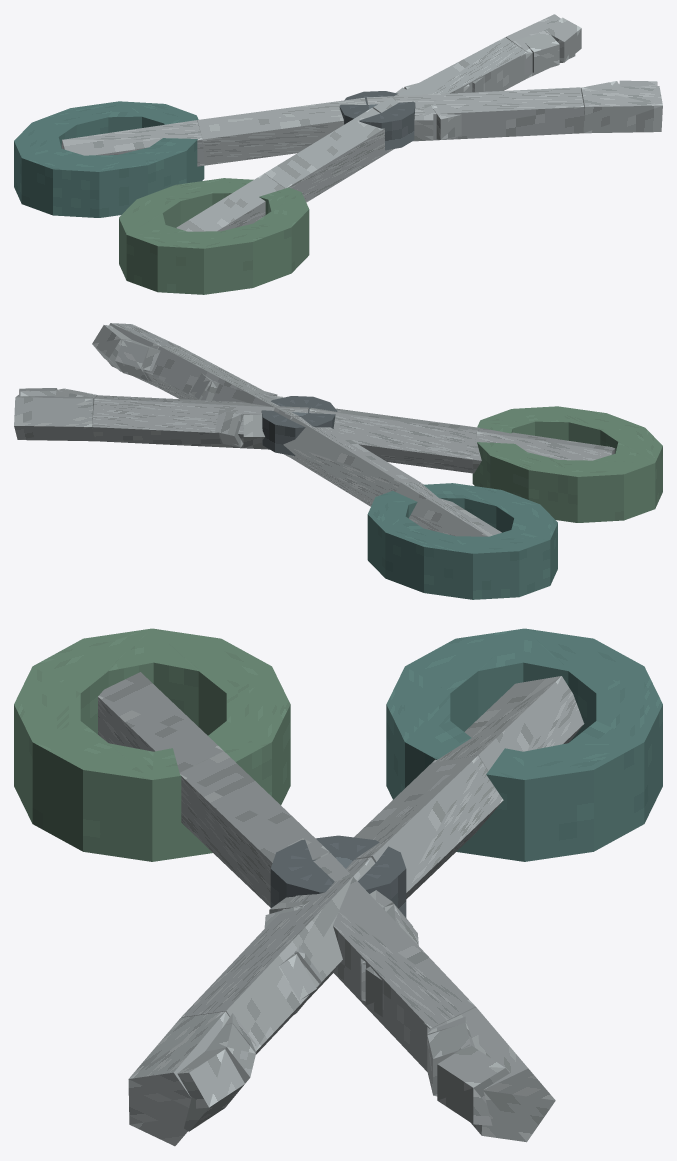
File: scissors_wavy.glb
The picture shows the model from 3 angles, top to bottom: view 1: azimuth 30°, elevation 25°; view 2: azimuth 150°, elevation 25°; view 3: azimuth 270°, elevation 25°; orthographic projection. The views are drawn at different scales.
Parts seen in each view (by area): view 1: block_finger loop (×2), block_long lever arm 1 (×2), block_long lever arm 2 (×2), block_long lever arm 0 (×2), block_long lever arm 3 (×2), block_pivot pin, block_wavy craft edge 6, block_wavy craft edge 7, block_wavy craft edge 1, block_wavy craft edge 0; view 2: block_finger loop (×2), block_long lever arm 1 (×2), block_long lever arm 2 (×2), block_long lever arm 0 (×2), block_long lever arm 3 (×2), block_pivot pin, block_wavy craft edge 6, block_wavy craft edge 7, block_wavy craft edge 1, block_wavy craft edge 0; view 3: block_finger loop (×2), block_long lever arm 2 (×2), block_long lever arm 1 (×2), block_long lever arm 0 (×2), block_long lever arm 3 (×2), block_wavy craft edge 7 (×2), block_pivot pin, block_wavy craft edge 6 (×2), block_wavy craft edge 3.
Boxes of the visible parts, x1,y1,x2,y2 form: block_finger loop (×2): [14, 101, 309, 294]; block_long lever arm 1 (×2): [197, 97, 393, 202]; block_long lever arm 2 (×2): [366, 37, 584, 141]; block_long lever arm 0 (×2): [61, 120, 284, 231]; block_long lever arm 3 (×2): [506, 14, 662, 133]; block_pivot pin: [339, 91, 415, 150]; block_wavy craft edge 6: [522, 31, 559, 72]; block_wavy craft edge 7: [545, 17, 581, 62]; block_wavy craft edge 1: [430, 104, 461, 139]; block_wavy craft edge 0: [414, 104, 433, 140]; block_finger loop (×2): [367, 406, 662, 599]; block_long lever arm 1 (×2): [283, 407, 480, 506]; block_long lever arm 2 (×2): [92, 346, 309, 457]; block_long lever arm 0 (×2): [396, 428, 615, 536]; block_long lever arm 3 (×2): [14, 323, 180, 441]; block_pivot pin: [261, 396, 337, 455]; block_wavy craft edge 6: [115, 339, 150, 380]; block_wavy craft edge 7: [92, 325, 130, 371]; block_wavy craft edge 1: [215, 409, 243, 447]; block_wavy craft edge 0: [243, 414, 266, 447]; block_finger loop (×2): [14, 628, 662, 861]; block_long lever arm 2 (×2): [181, 853, 475, 1071]; block_long lever arm 1 (×2): [180, 751, 503, 907]; block_long lever arm 0 (×2): [98, 672, 584, 772]; block_long lever arm 3 (×2): [128, 1007, 555, 1146]; block_wavy craft edge 7 (×2): [177, 1044, 509, 1131]; block_pivot pin: [270, 835, 406, 917]; block_wavy craft edge 6 (×2): [205, 1022, 474, 1096]; block_wavy craft edge 3: [278, 954, 316, 1016].
Size of the model in its own units: 0.16 by 0.018 by 0.0925.
1 material, 1 textured.
